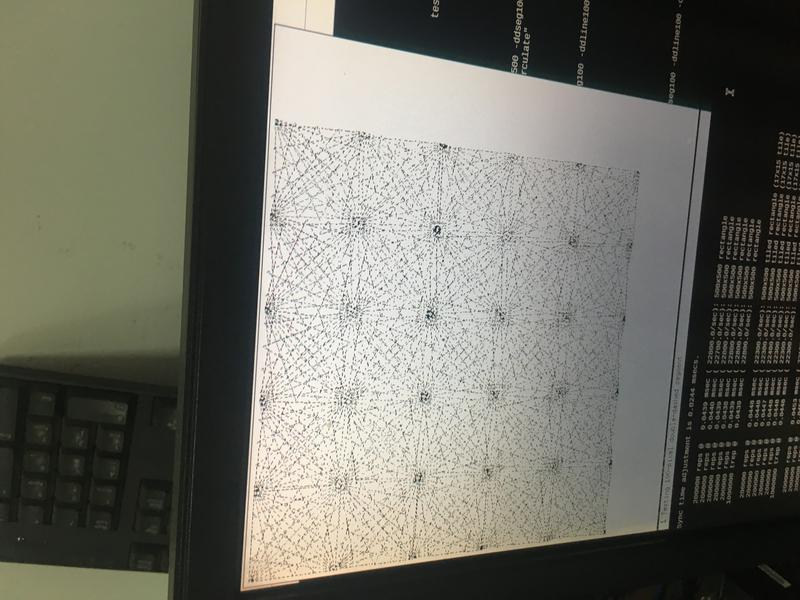xrandr_pass: (255, 112, 650, 555)
